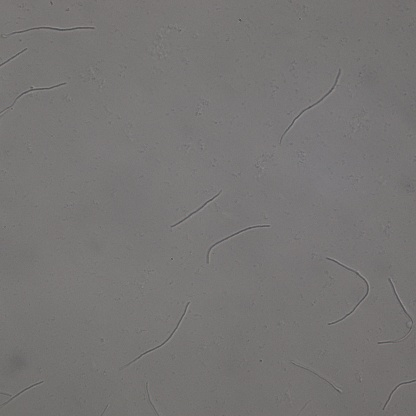Sensitive: (279, 66, 342, 145), (123, 303, 190, 369), (326, 257, 370, 328), (206, 223, 271, 263), (378, 277, 414, 346), (1, 81, 67, 118), (172, 188, 224, 228), (1, 22, 96, 39), (292, 360, 340, 392), (1, 381, 44, 407), (384, 376, 416, 409)
